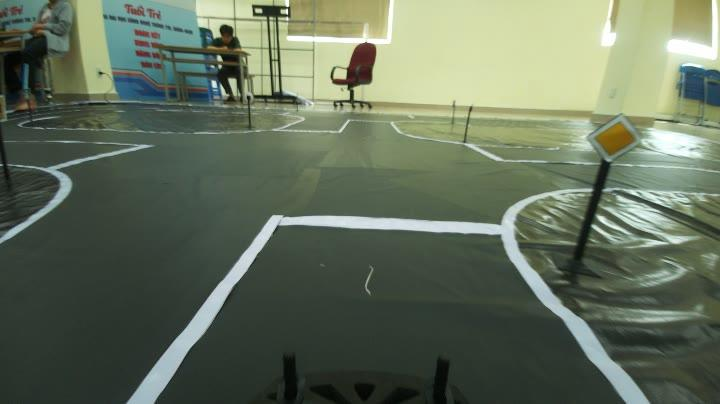priority: (584, 106, 646, 168)
